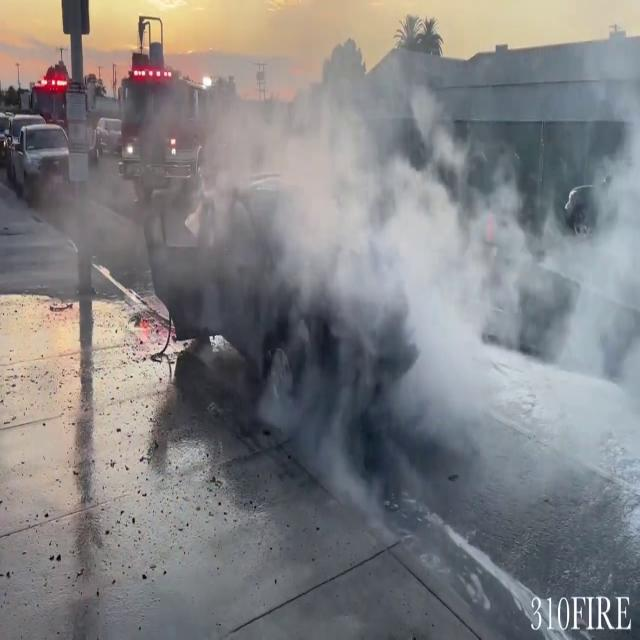Smoke: (155, 0, 640, 498)
